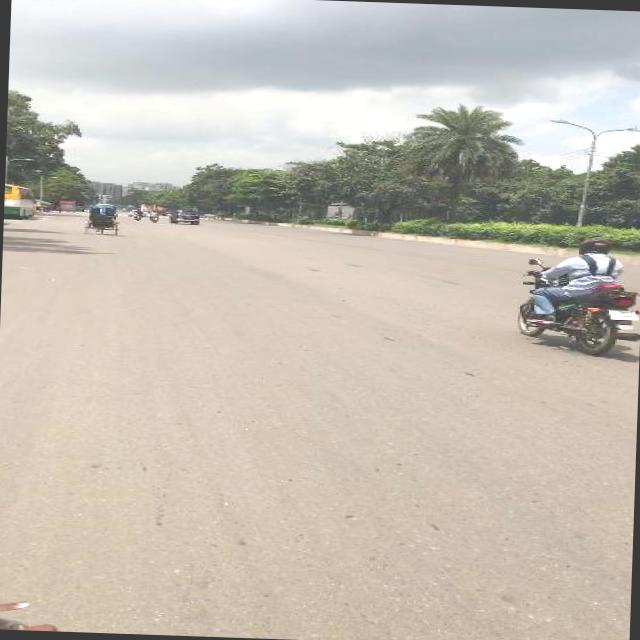bus: (4, 181, 36, 219)
car: (167, 208, 200, 224)
motorcycle: (510, 233, 640, 356), (83, 201, 120, 235), (148, 208, 158, 221), (132, 208, 142, 220)
